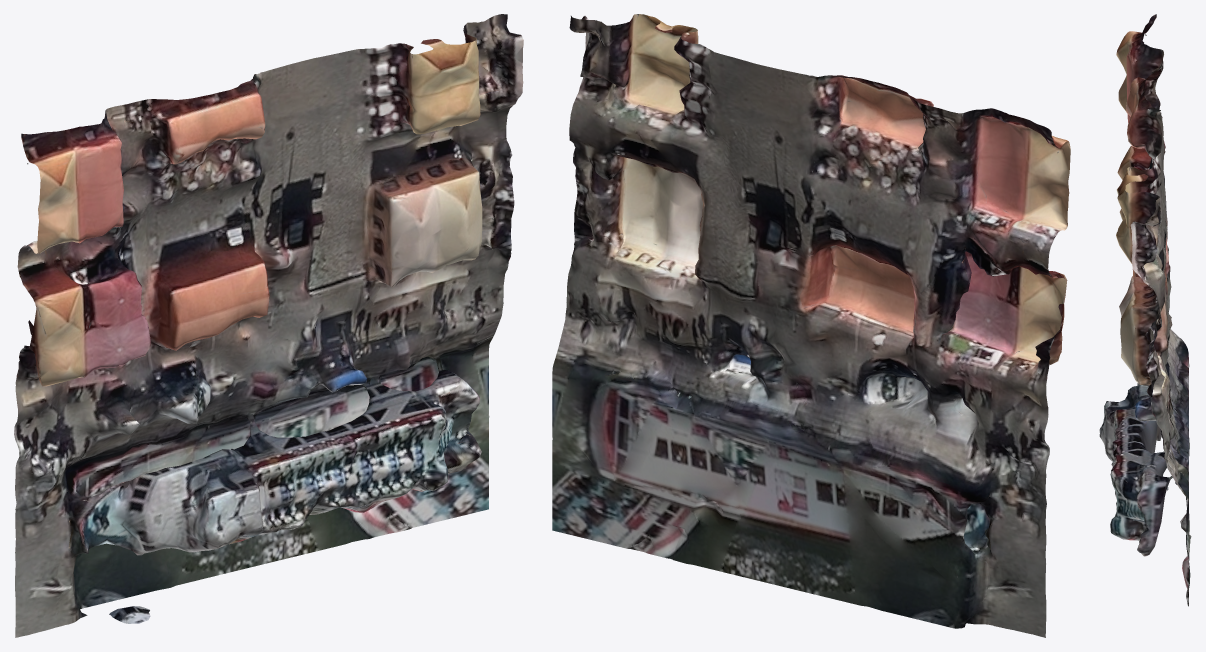
File: Tile_+029_+018_L21_0032300.fbx
3 views of the same model, side by side, from view 1: azimuth 30°, elevation 25°; view 2: azimuth 150°, elevation 25°; view 3: azimuth 270°, elevation 25° (orthographic). The views are drawn at different scales.
Parts seen in each view (by area): view 1: DefaultName; view 2: DefaultName; view 3: DefaultName.
Part boxes in pixels (x1,y1,x2,y2): DefaultName: (14, 14, 523, 637); DefaultName: (552, 14, 1070, 637); DefaultName: (1099, 14, 1191, 606).
Bounding box in the file's own units: 31.38 × 31.31 × 6.14.
1 material, 1 textured.
